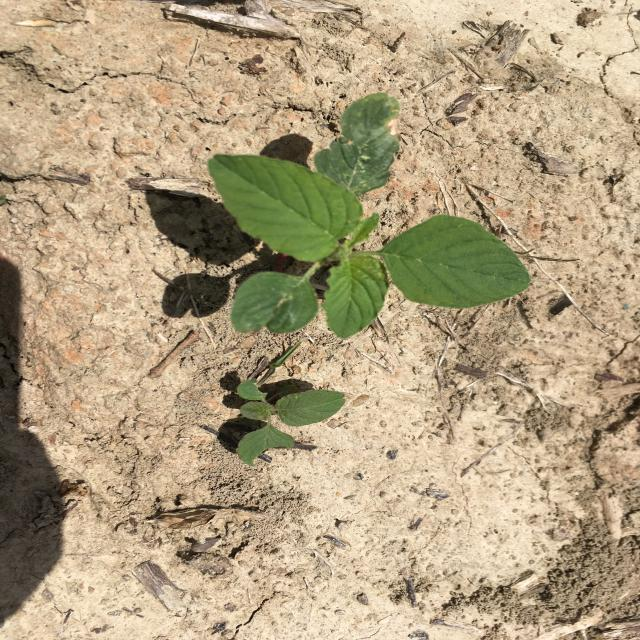PalmerAmaranth: (207, 91, 532, 339), (236, 378, 346, 466)
